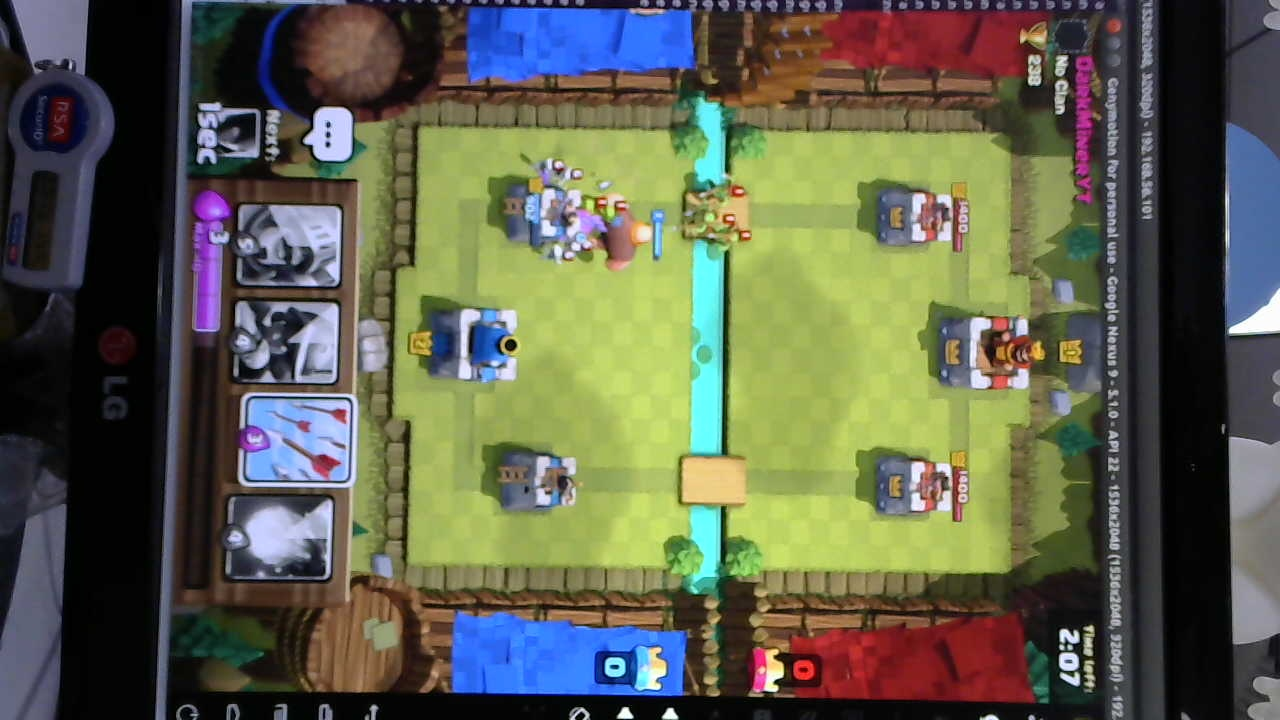arena: (500, 177, 590, 245), (500, 450, 580, 514)
earena: (874, 187, 958, 248), (877, 458, 953, 521)
eking: (935, 314, 1042, 391)
giant: (597, 193, 653, 272)
goblin: (572, 189, 626, 221)
king: (435, 307, 522, 384)
skeleton: (530, 155, 585, 187)
speargoblins: (685, 176, 749, 252)
